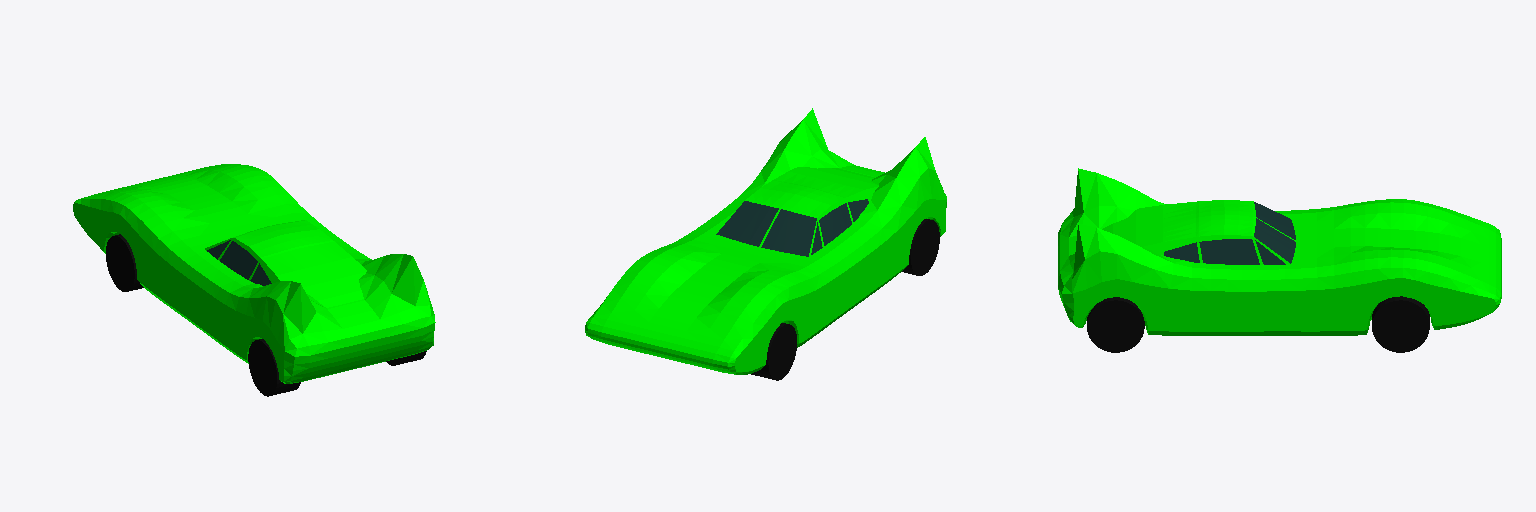
Rendered from batMobile1.obj.
The picture shows the model from 3 angles: view 1: azimuth 30°, elevation 25°; view 2: azimuth 150°, elevation 25°; view 3: azimuth 270°, elevation 25°; orthographic projection.
Visible parts, largest first — view 1: car_Cube, carTop_Cube.001, TireFP.002_Cylinder.002, TireFP.003_Cylinder.003; view 2: car_Cube, carTop_Cube.001, TireFP.003_Cylinder.003, TireFP.002_Cylinder.002; view 3: car_Cube, carTop_Cube.001, TireFP_Cylinder, TireFP.001_Cylinder.001.
Part boxes in pixels (left/top/right/bottom): car_Cube: left=73, top=164, right=435, bottom=383; carTop_Cube.001: left=205, top=220, right=366, bottom=307; TireFP.002_Cylinder.002: left=248, top=339, right=300, bottom=396; TireFP.003_Cylinder.003: left=106, top=234, right=143, bottom=291; car_Cube: left=585, top=108, right=946, bottom=374; carTop_Cube.001: left=716, top=167, right=878, bottom=256; TireFP.003_Cylinder.003: left=751, top=323, right=796, bottom=380; TireFP.002_Cylinder.002: left=902, top=219, right=939, bottom=275; car_Cube: left=1058, top=168, right=1501, bottom=335; carTop_Cube.001: left=1102, top=200, right=1295, bottom=264; TireFP_Cylinder: left=1372, top=296, right=1429, bottom=352; TireFP.001_Cylinder.001: left=1087, top=297, right=1144, bottom=352.
Size of the model in its own units: 3.6 by 2.75 by 9.2.